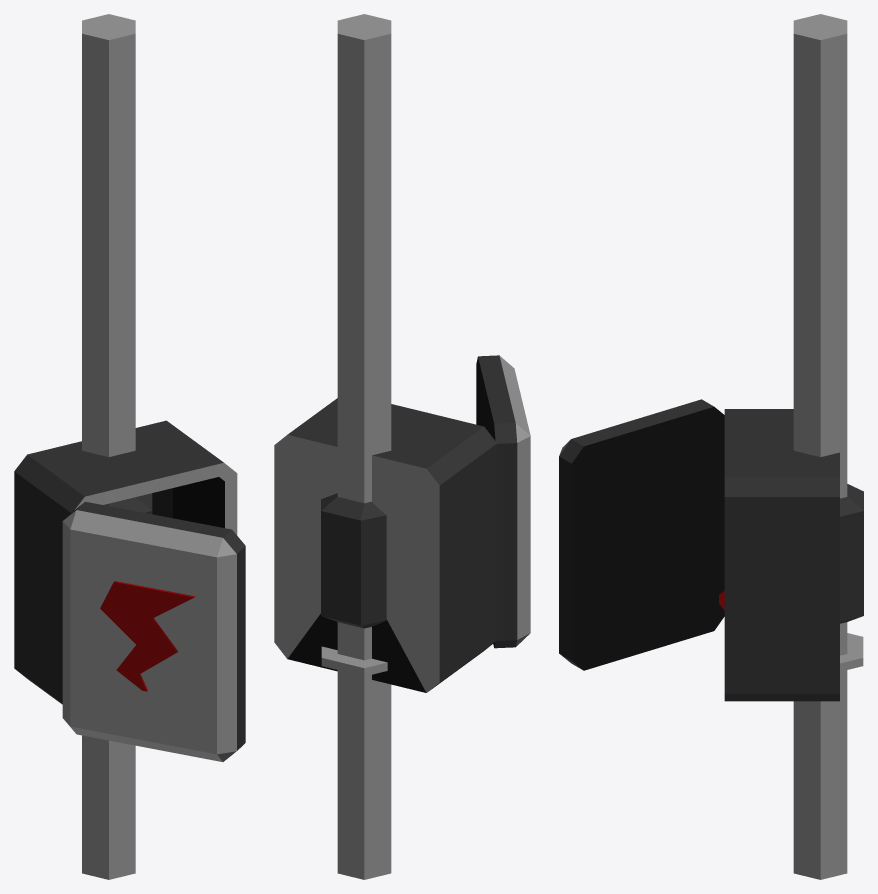
The model's file is FuseBox.FBX.
3 renders of one model, left to right at view 1: azimuth 30°, elevation 25°; view 2: azimuth 150°, elevation 25°; view 3: azimuth 270°, elevation 25°, orthographic.
Visible parts, largest first — view 1: Cylinder001; view 2: Cylinder001; view 3: Cylinder001.
Boxes of the visible parts, x1,y1,x2,y2 form: Cylinder001: (14,14,245,879); Cylinder001: (274,14,530,879); Cylinder001: (559,14,863,879).
Bounding box in the file's own units: 67.95 × 298 × 98.12.
